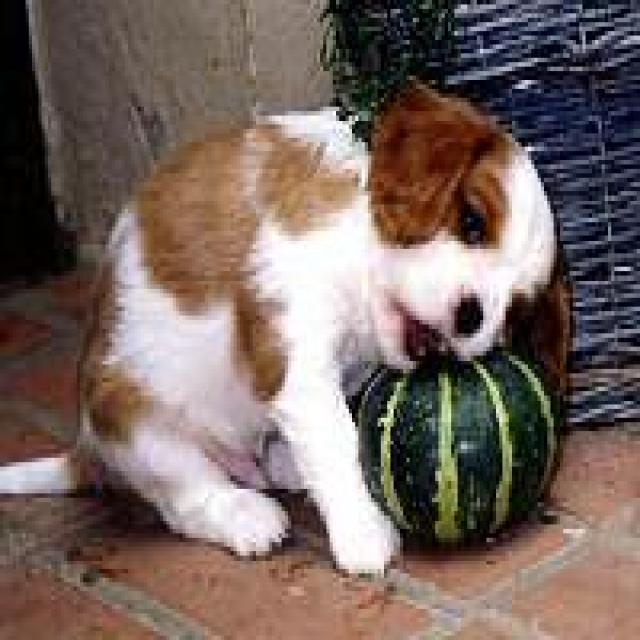blenheim_spaniel: (3, 67, 576, 591)
